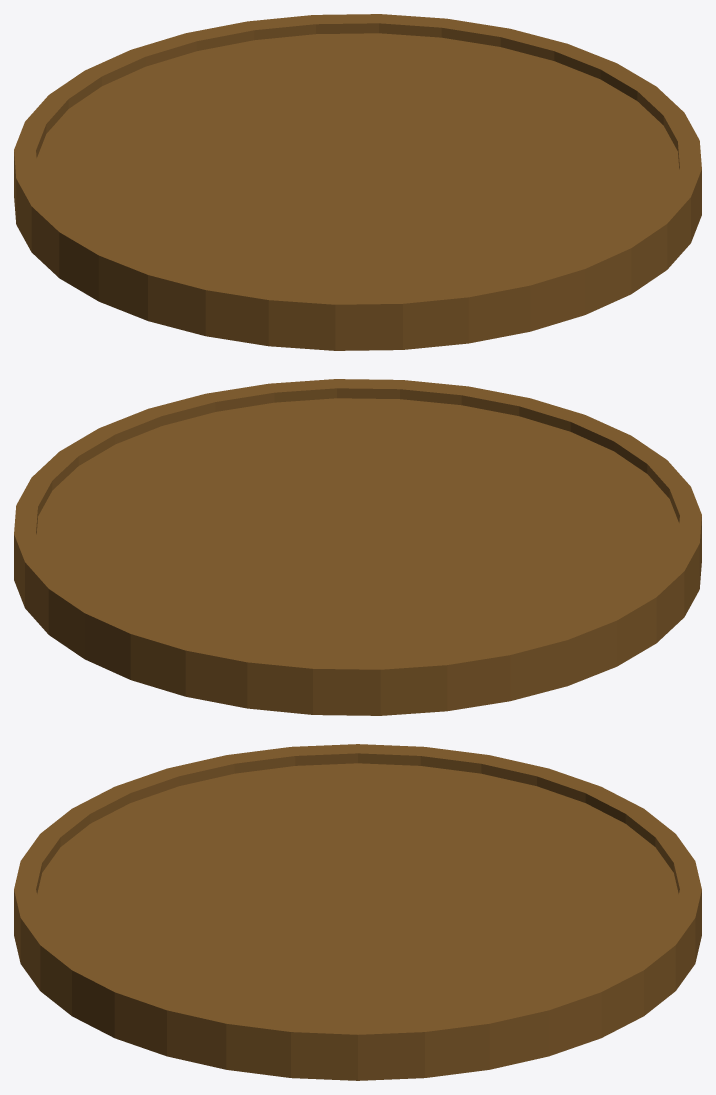
The model's file is Coin.fbx.
3 views of the same model, one above another, from view 1: azimuth 30°, elevation 25°; view 2: azimuth 150°, elevation 25°; view 3: azimuth 270°, elevation 25° (orthographic).
Visible parts, largest first — view 1: Coin; view 2: Coin; view 3: Coin.
Boxes of the visible parts, bbox=[...] form: Coin: bbox=[14, 14, 701, 350]; Coin: bbox=[14, 379, 701, 715]; Coin: bbox=[14, 744, 701, 1080].
Bounding box in the file's own units: 200 × 14.78 × 200.
